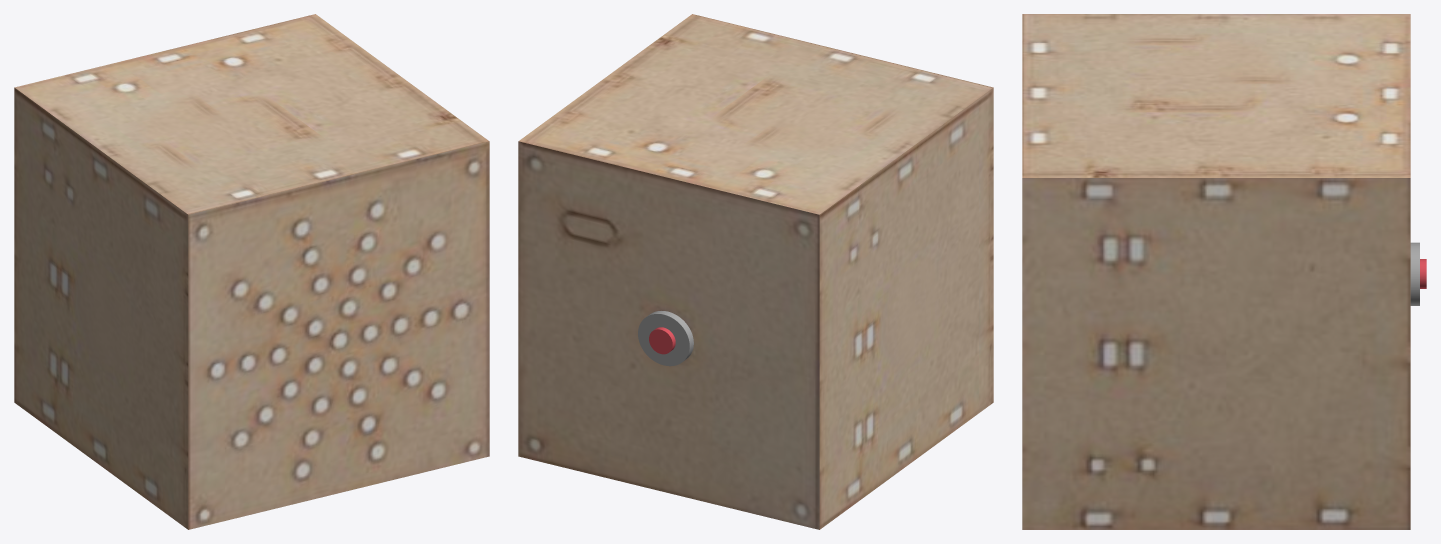
The picture shows the model from 3 angles, left to right: view 1: azimuth 30°, elevation 25°; view 2: azimuth 150°, elevation 25°; view 3: azimuth 270°, elevation 25°; orthographic projection. The views are drawn at different scales.
Size of the model in its own units: 0.04 by 0.04 by 0.0416.
6 materials, 6 textured.
